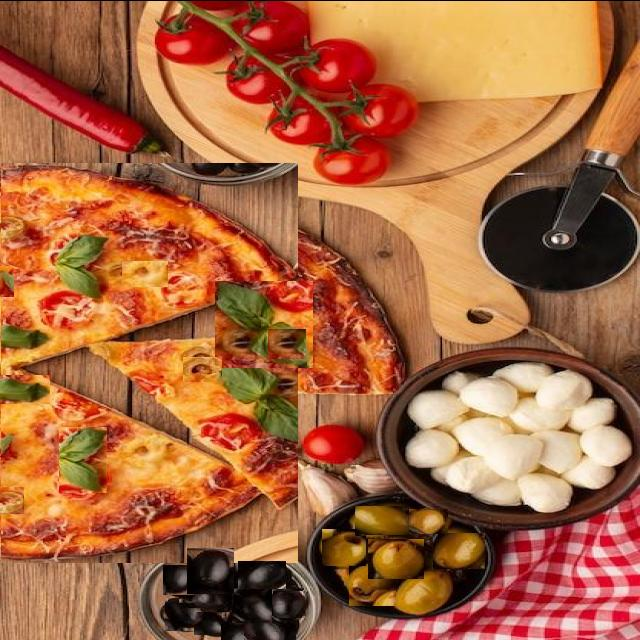basil: (215, 280, 313, 366), (59, 426, 107, 492), (0, 374, 50, 403), (0, 265, 14, 296)
olive: (399, 569, 457, 613), (368, 538, 424, 578), (187, 547, 234, 593), (349, 560, 396, 605), (433, 532, 485, 568), (322, 526, 366, 564), (355, 505, 409, 534), (232, 587, 272, 622), (238, 560, 286, 588), (244, 615, 296, 640), (165, 597, 201, 630), (122, 260, 168, 285), (268, 328, 306, 358), (408, 508, 448, 533), (163, 564, 195, 594), (274, 588, 308, 616), (194, 611, 235, 634), (183, 356, 222, 380), (0, 486, 24, 513), (221, 622, 255, 640), (179, 591, 217, 607), (106, 449, 145, 464)
pizza: (1, 162, 298, 562), (86, 215, 404, 392)
